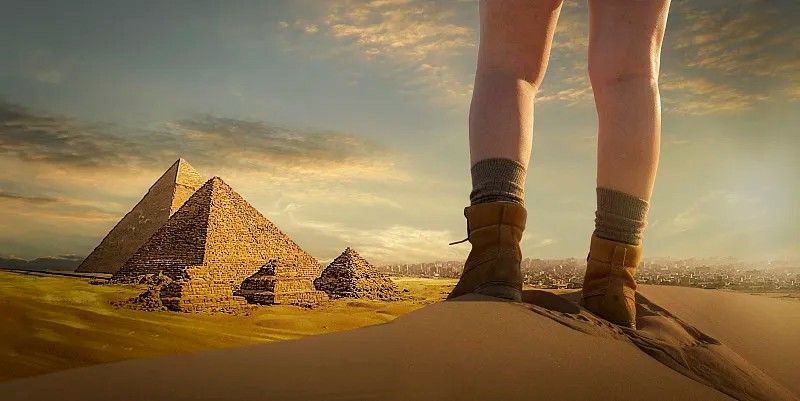Pyramid: (109, 176, 323, 290), (76, 157, 206, 274), (314, 249, 410, 299), (151, 267, 253, 312), (237, 261, 330, 307)
